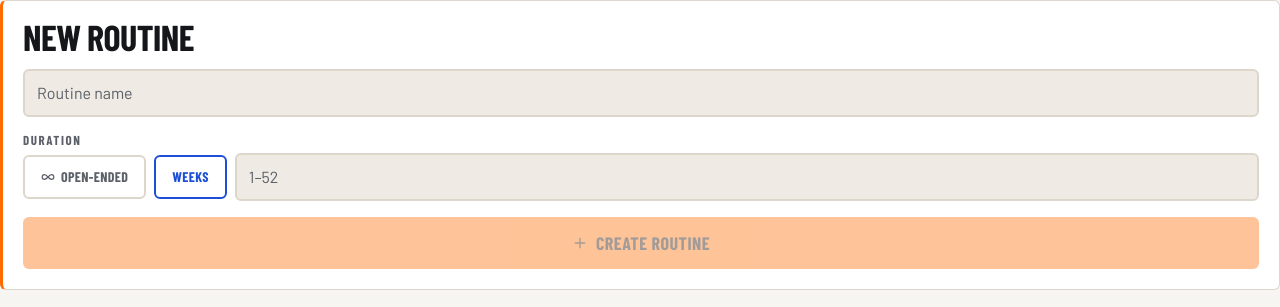
Test: CreateRoutineForm › keeps create disabled until both fields are filled in
Check: the button "Create routine" is disabled, box x1=23 y1=217 x2=1259 y2=269
Type "Push Pull Legs" into the field labelled "name". click: (641, 93)
box: x1=23 y1=69 x2=1259 y2=117
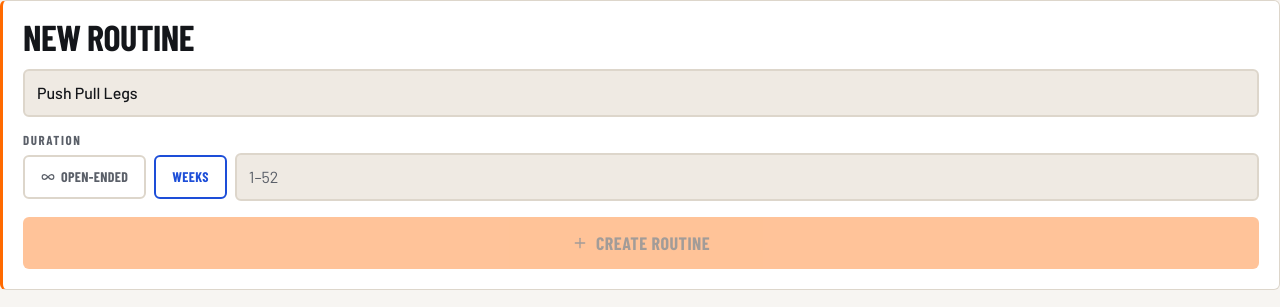
Check: the button "Create routine" is disabled, box x1=23 y1=217 x2=1259 y2=269
Type "8" into the number field named "Duration in weeks". click: (747, 177)
box: x1=235 y1=153 x2=1259 y2=201
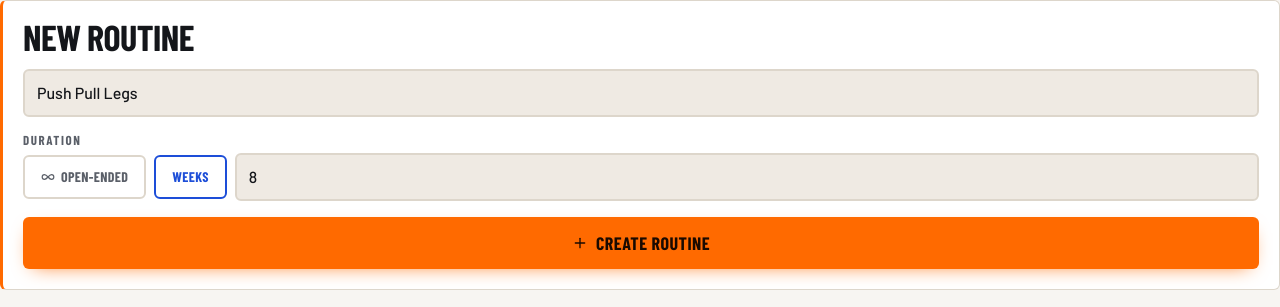
Check: the button "Create routine" is enabled, box x1=23 y1=217 x2=1259 y2=269
